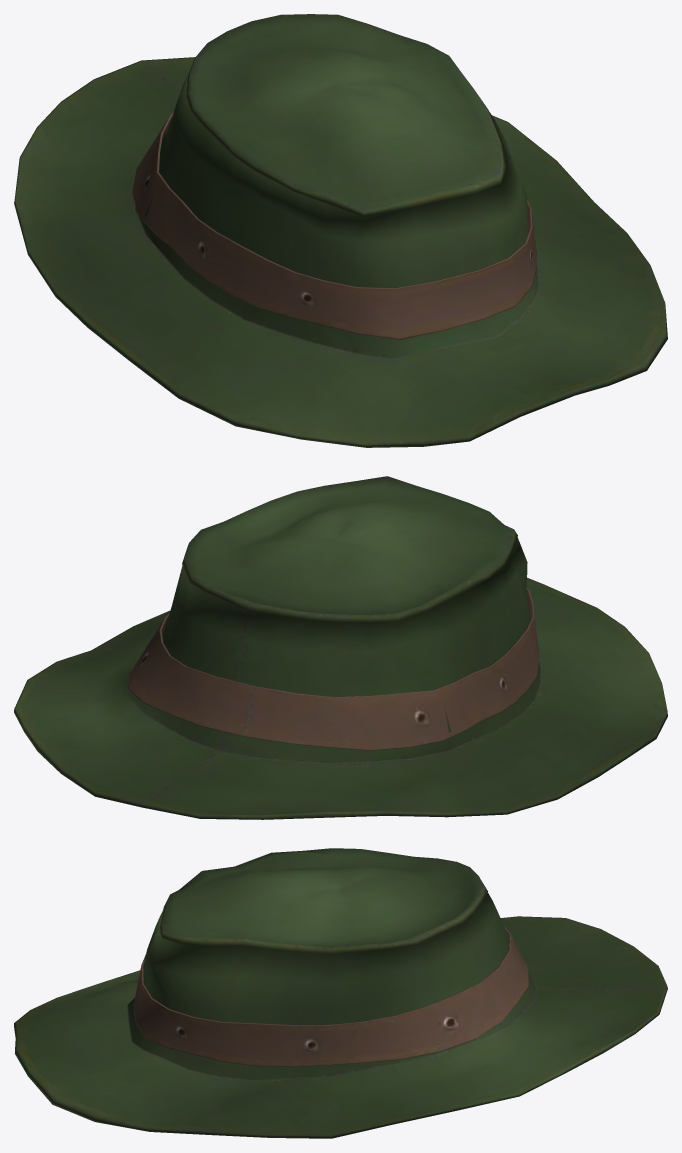
File: mindfront-fishing-hat-01.glb
3 renders of one model, top to bottom at view 1: azimuth 30°, elevation 25°; view 2: azimuth 150°, elevation 25°; view 3: azimuth 270°, elevation 25°, orthographic. The views are drawn at different scales.
Visible parts, largest first — view 1: Human.mindfront_fishing_hat_01; view 2: Human.mindfront_fishing_hat_01; view 3: Human.mindfront_fishing_hat_01.
Boxes of the visible parts, x1,y1,x2,y2 form: Human.mindfront_fishing_hat_01: [14, 14, 667, 447]; Human.mindfront_fishing_hat_01: [14, 476, 667, 819]; Human.mindfront_fishing_hat_01: [14, 848, 667, 1138].
Bounding box in the file's own units: 0.2361 × 0.0941 × 0.3157.
1 material, 1 textured.
